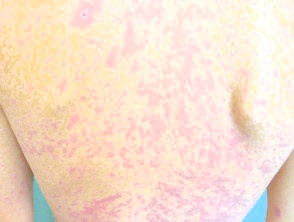SJS-TEN: (0, 0, 289, 221)
